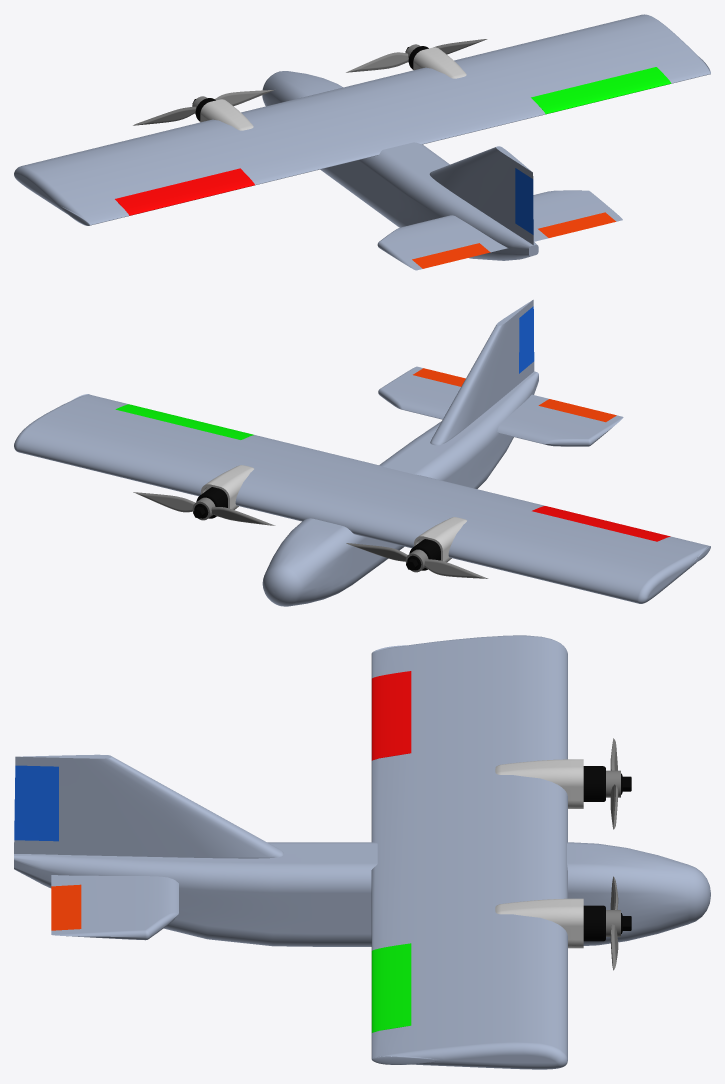
File: iNav-plane.obj
3 renders of one model, top to bottom at view 1: azimuth 30°, elevation 25°; view 2: azimuth 150°, elevation 25°; view 3: azimuth 270°, elevation 25°, orthographic. The views are drawn at different scales.
Parts seen in each view (by area): view 1: Rudder; view 2: Rudder; view 3: Rudder.
Boxes of the visible parts, x1,y1,x2,y2 form: Rudder: (14, 14, 710, 270); Rudder: (14, 299, 710, 606); Rudder: (14, 635, 710, 1069).
Size of the model in its own units: 75.12 by 15.11 by 53.44.
